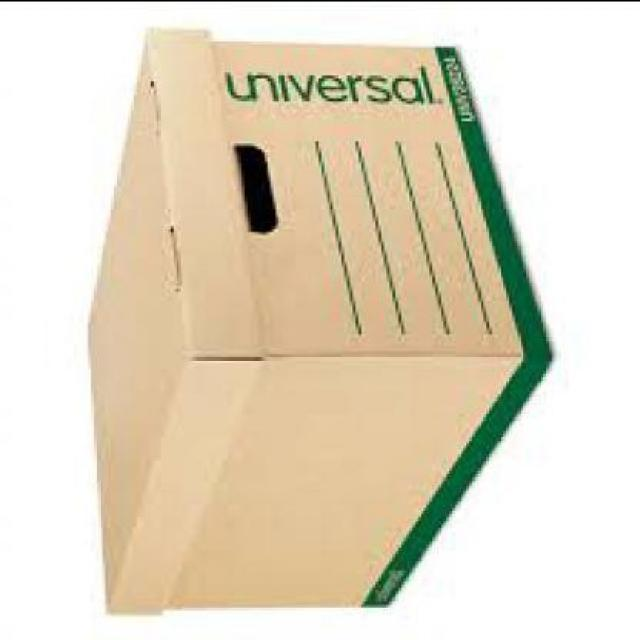box: (86, 33, 552, 619)
